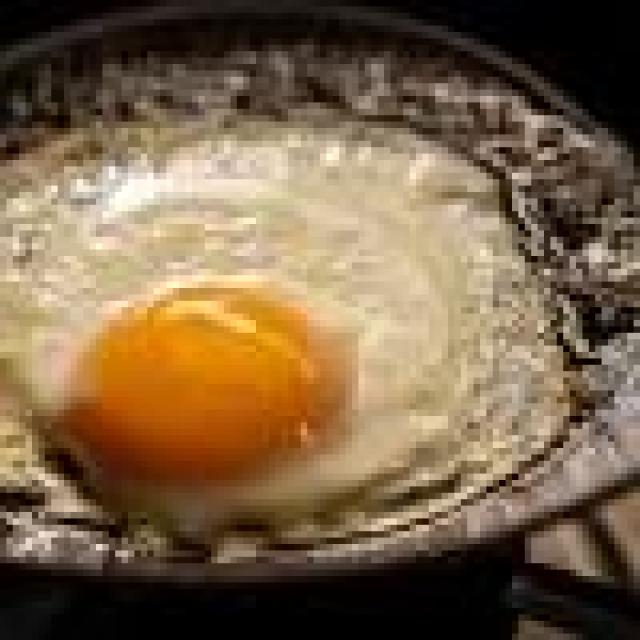Egg: (0, 125, 564, 539)
